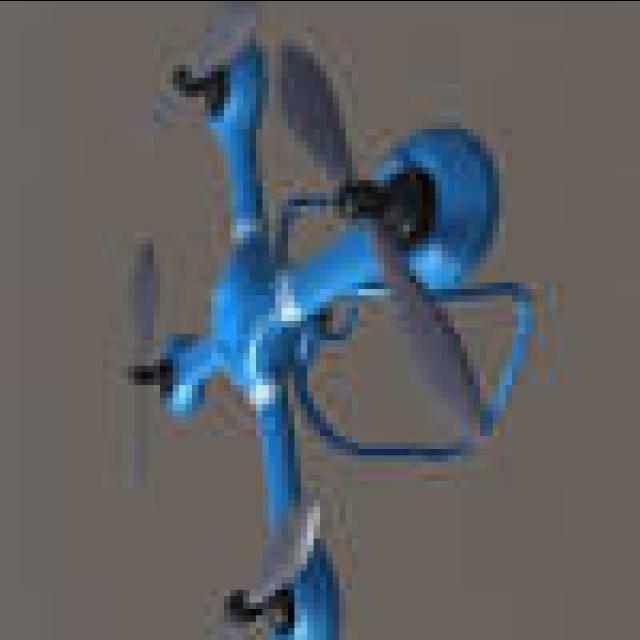drone: (96, 0, 560, 640)
